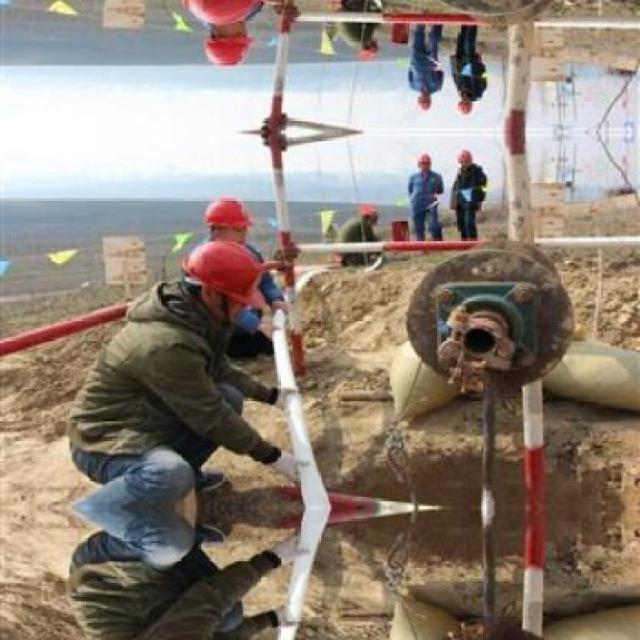helmet: (181, 239, 265, 318), (198, 15, 254, 68), (198, 194, 254, 246), (180, 0, 266, 23), (413, 148, 433, 174), (413, 87, 433, 113), (458, 94, 474, 118), (458, 144, 474, 167)
